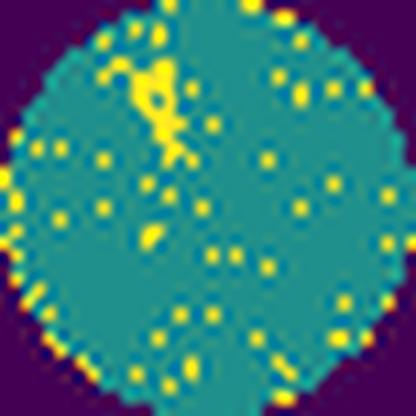Loc: (92, 52, 204, 168)
